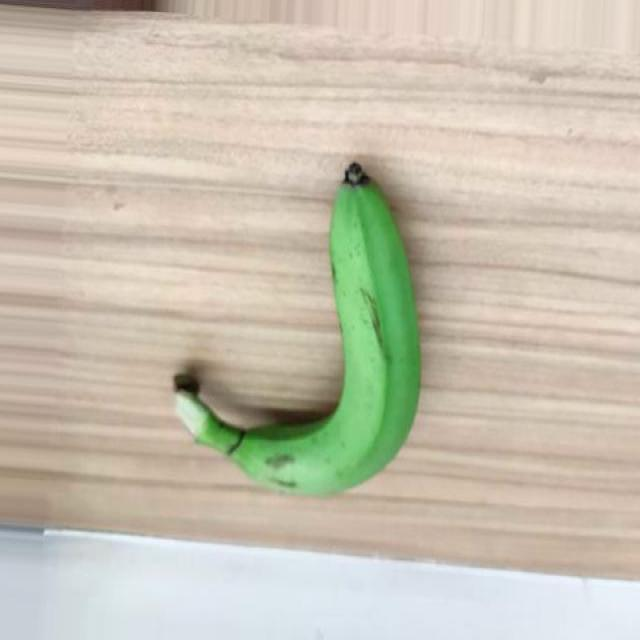Unripe: (173, 159, 421, 500)
